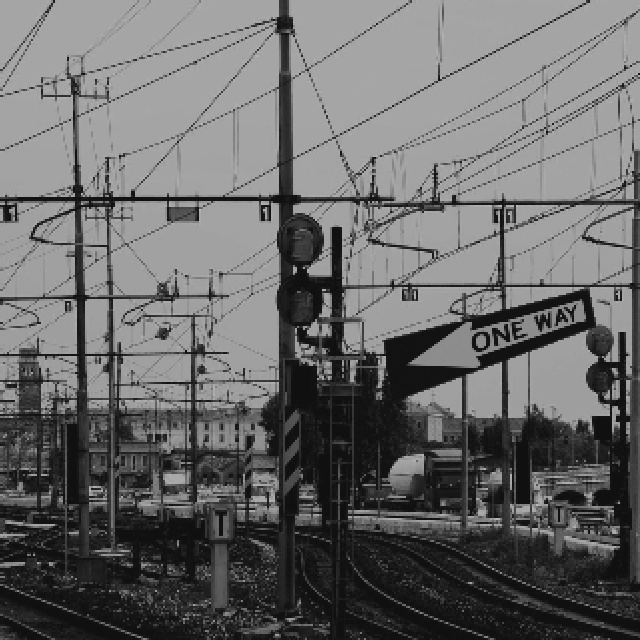ONE_WAY_ left: (381, 286, 595, 401)
